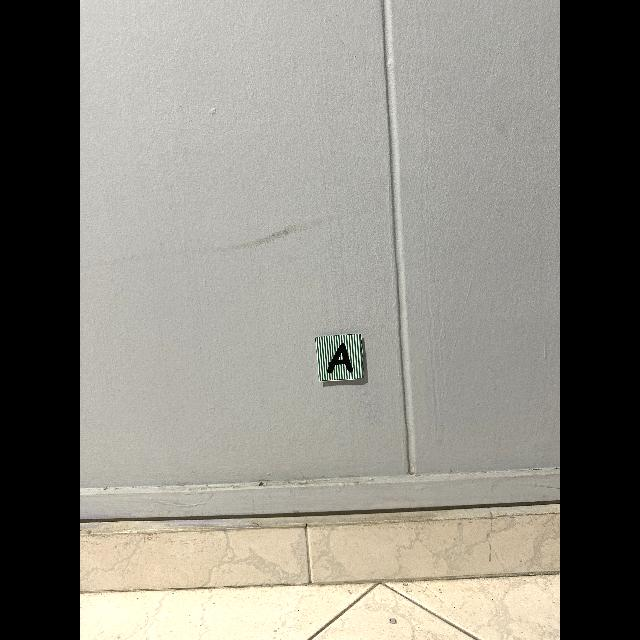A: (327, 343, 353, 374)
